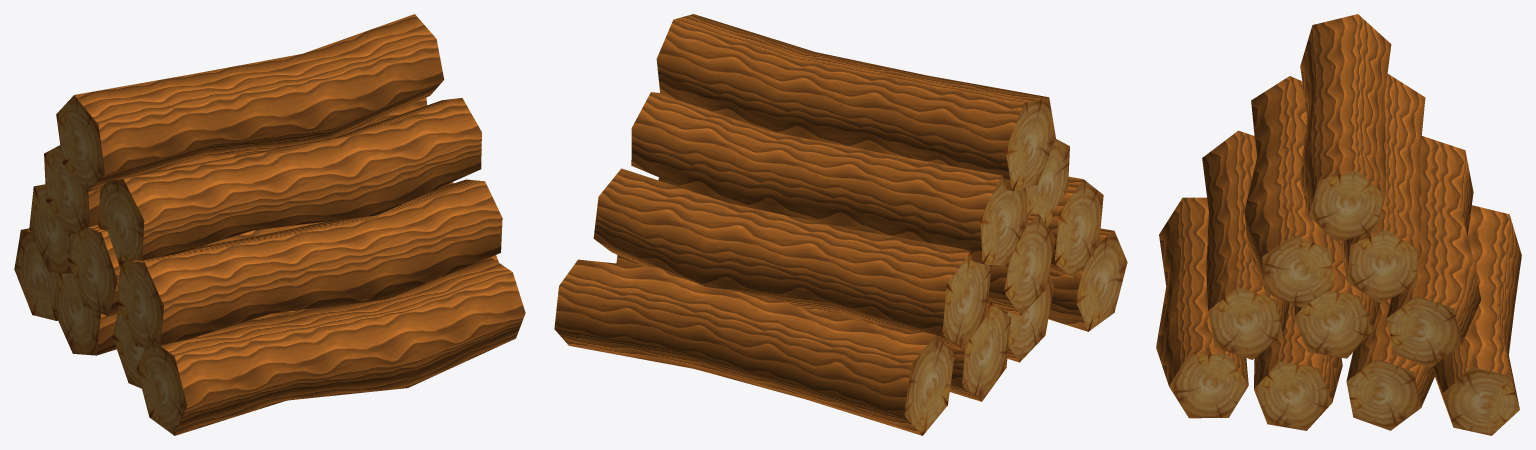
Rendered from Woodpile.FBX.
The picture shows the model from 3 angles, left to right: view 1: azimuth 30°, elevation 25°; view 2: azimuth 150°, elevation 25°; view 3: azimuth 270°, elevation 25°; orthographic projection. The views are drawn at different scales.
Visible parts, largest first — view 1: Woodpile; view 2: Woodpile; view 3: Woodpile.
Boxes of the visible parts, x1=… form: Woodpile: x1=14, y1=14, x2=525, y2=435; Woodpile: x1=554, y1=14, x2=1127, y2=435; Woodpile: x1=1156, y1=14, x2=1521, y2=435.
Bounding box in the file's own units: 10.07 × 7.32 × 9.16.
